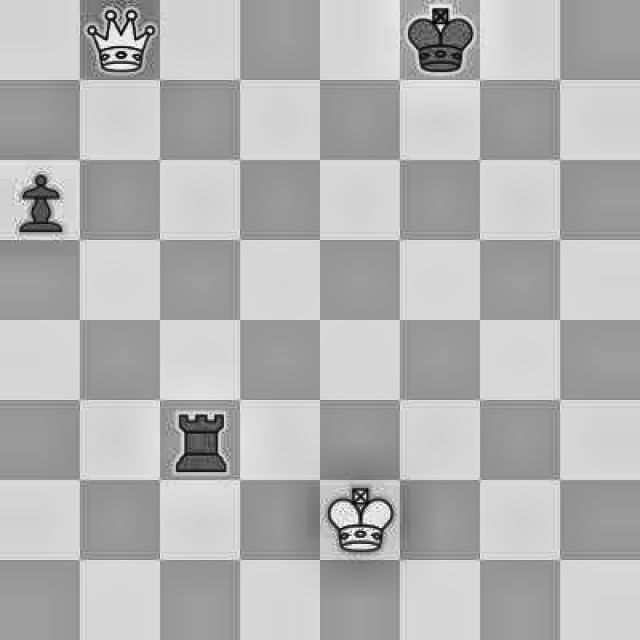black king: (397, 0, 481, 83)
black pawn: (0, 158, 77, 236)
black rook: (162, 400, 238, 477)
white king: (318, 490, 400, 560)
white queen: (81, 0, 159, 80)
